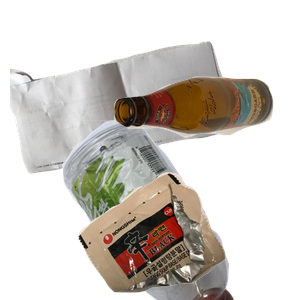glass: (111, 74, 300, 204)
paper: (10, 39, 236, 205)
plastic: (25, 120, 252, 300)
trash: (76, 170, 300, 300)
